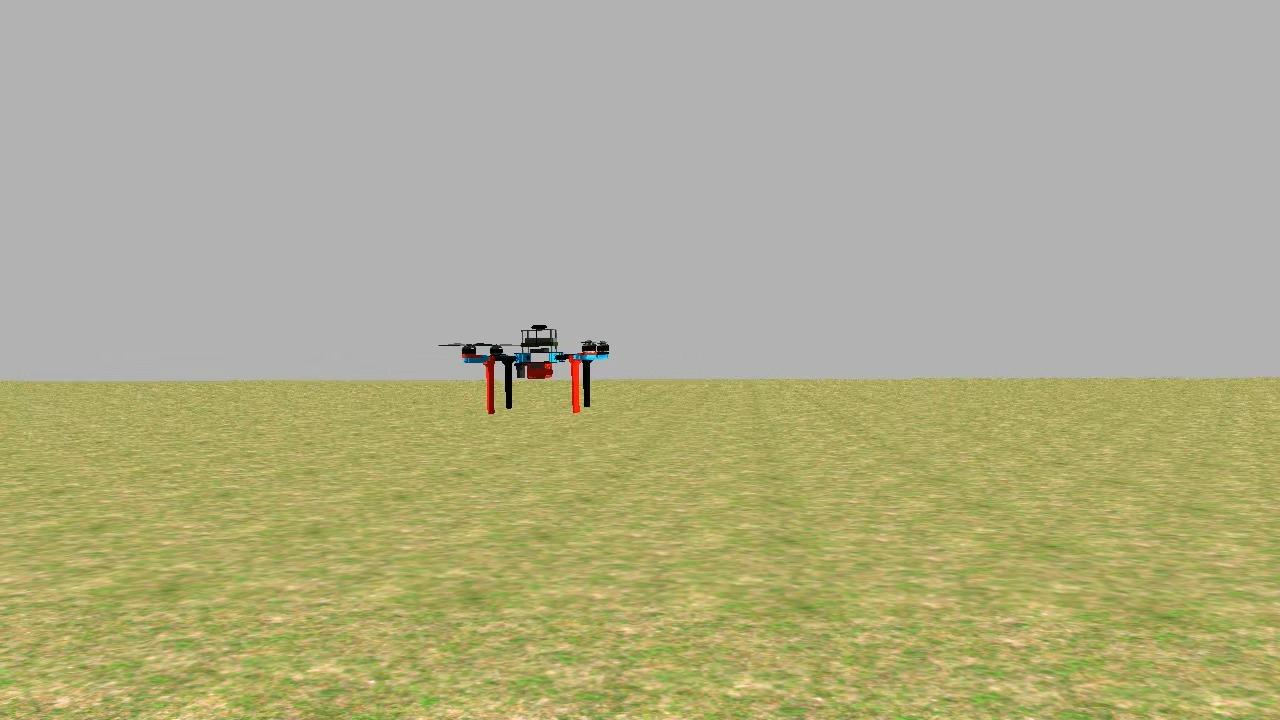UAV: (448, 310, 616, 425)
